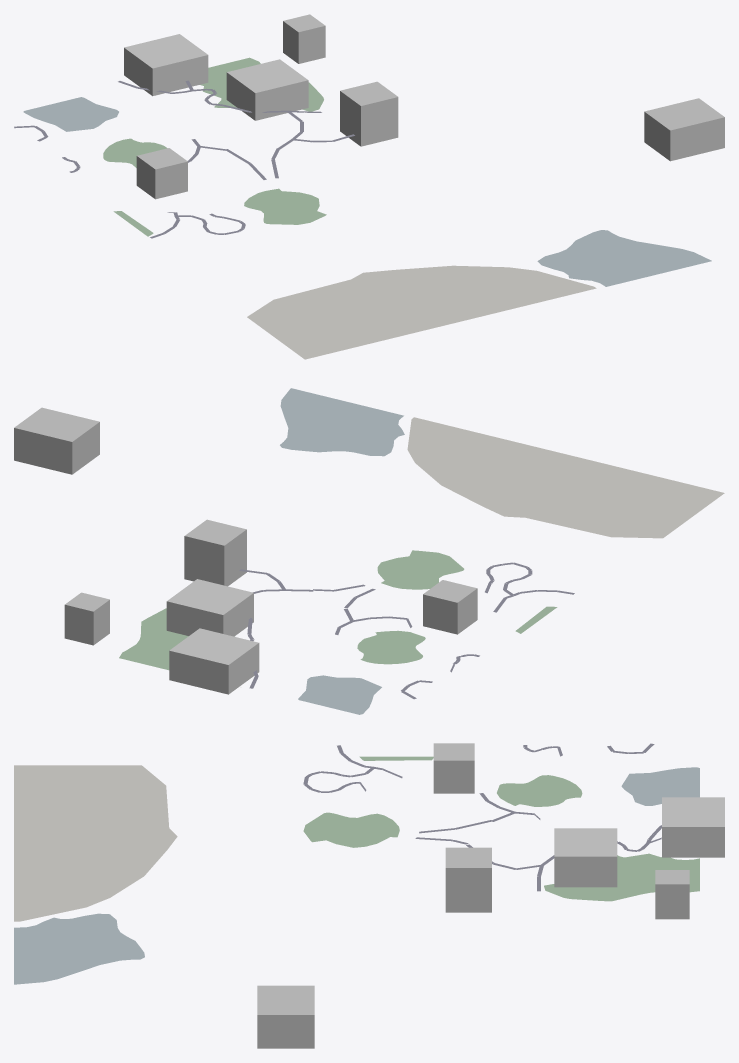
The model's file is 132_120_mid.glb.
The picture shows the model from 3 angles, top to bottom: view 1: azimuth 30°, elevation 25°; view 2: azimuth 150°, elevation 25°; view 3: azimuth 270°, elevation 25°; orthographic projection. The views are drawn at different scales.
Bounding box in the file's own units: 497 × 43.83 × 518.
